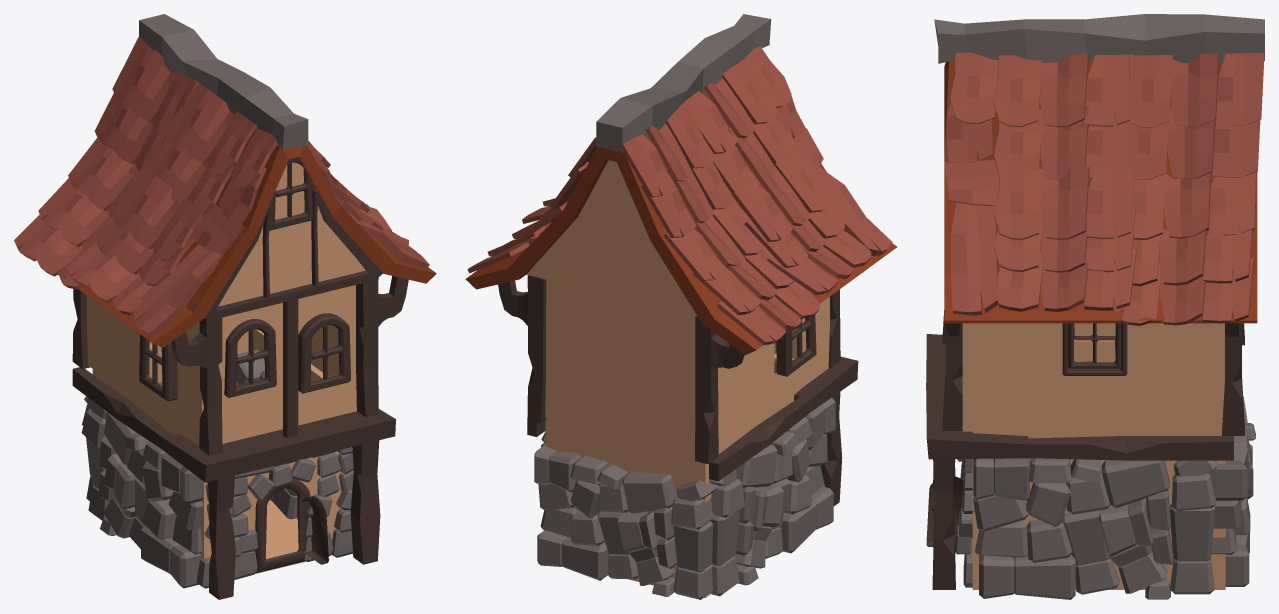
Rendered from maison-petite-3.glb.
3 renders of one model, left to right at view 1: azimuth 30°, elevation 25°; view 2: azimuth 150°, elevation 25°; view 3: azimuth 270°, elevation 25°, orthographic. The views are drawn at different scales.
Parts seen in each view (by area): view 1: Side Rocks.002, Wood Frame.002; view 2: Side Rocks.002, Wood Frame.002; view 3: Side Rocks.002, Wood Frame.002.
Part boxes in pixels (x1,y1,x2,y2): Side Rocks.002: [14, 14, 436, 588]; Wood Frame.002: [58, 157, 408, 599]; Side Rocks.002: [465, 14, 896, 599]; Wood Frame.002: [498, 272, 862, 506]; Side Rocks.002: [934, 14, 1264, 599]; Wood Frame.002: [926, 310, 1244, 589].
Bounding box in the file's own units: 38.05 × 56.58 × 32.98.
Materials: 2 (2 with a texture image).
